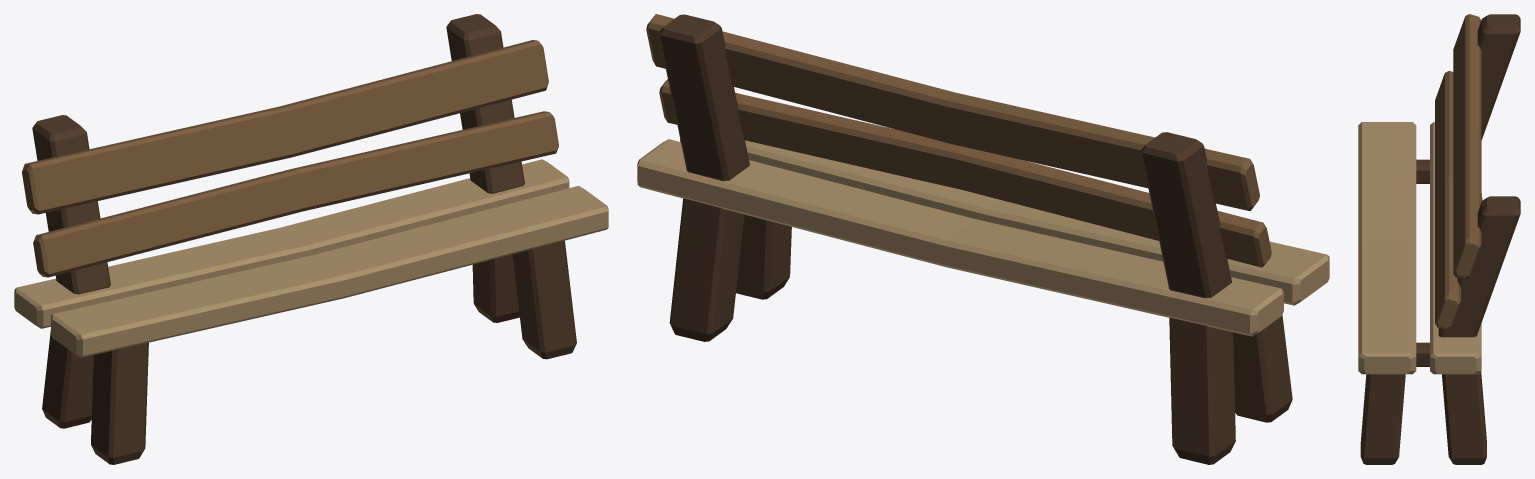
Rendered from wooden-bench-02e2c8.glb.
The picture shows the model from 3 angles, left to right: view 1: azimuth 30°, elevation 25°; view 2: azimuth 150°, elevation 25°; view 3: azimuth 270°, elevation 25°; orthographic projection. The views are drawn at different scales.
Visible parts, largest first — view 1: bench; view 2: bench; view 3: bench.
Part boxes in pixels (x1,y1,x2,y2): bench: (14, 14, 608, 464); bench: (637, 14, 1329, 464); bench: (1358, 14, 1520, 464).
Bounding box in the file's own units: 1.8 × 0.9 × 0.5265.
